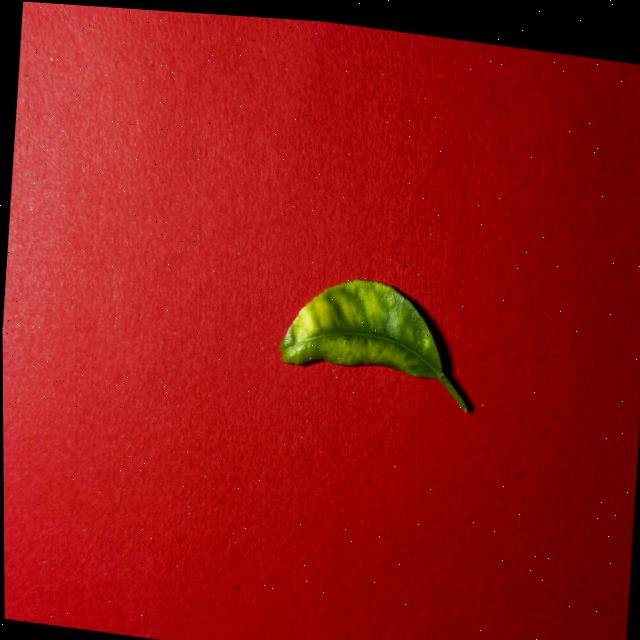greening: (278, 279, 467, 412)
